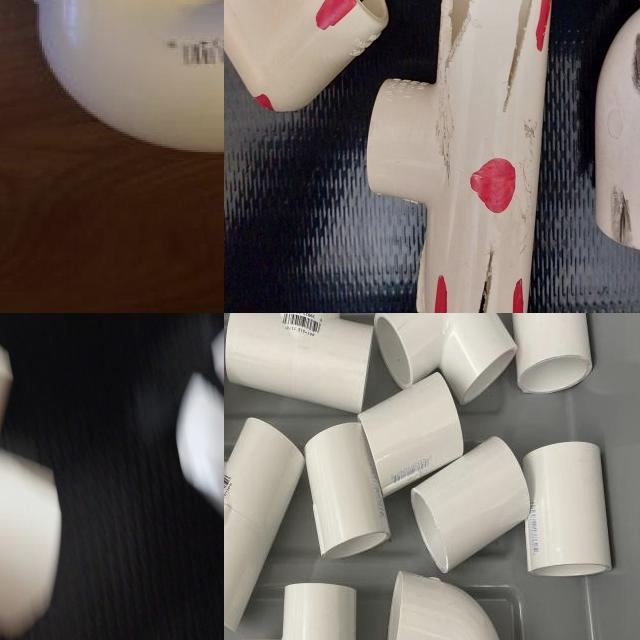Defective: (355, 111, 447, 155), (391, 38, 456, 85), (472, 263, 521, 313), (565, 270, 621, 313), (283, 77, 323, 134), (339, 9, 379, 57), (304, 22, 347, 56), (550, 92, 580, 128), (224, 67, 250, 108), (483, 252, 513, 285), (371, 293, 418, 313), (609, 272, 639, 303), (537, 230, 565, 260), (467, 292, 507, 313), (224, 82, 243, 114), (524, 135, 552, 156), (407, 168, 442, 183), (536, 108, 552, 138), (266, 272, 293, 287), (602, 128, 616, 145)
L Joint: (245, 238, 441, 313), (376, 313, 518, 410), (388, 571, 501, 640), (275, 584, 359, 640)
T Joint: (441, 86, 640, 313), (224, 0, 456, 184), (224, 419, 305, 631), (225, 313, 374, 414)
